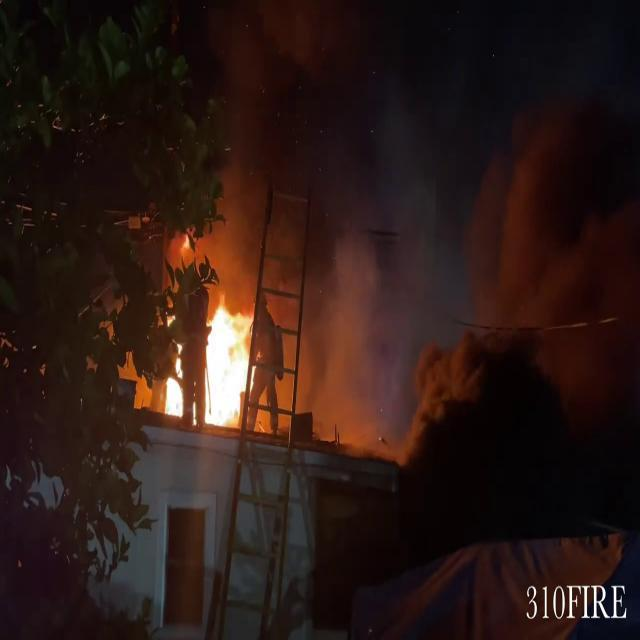Fire: (200, 294, 262, 430), (162, 346, 187, 422)
Smoke: (261, 7, 640, 445)
